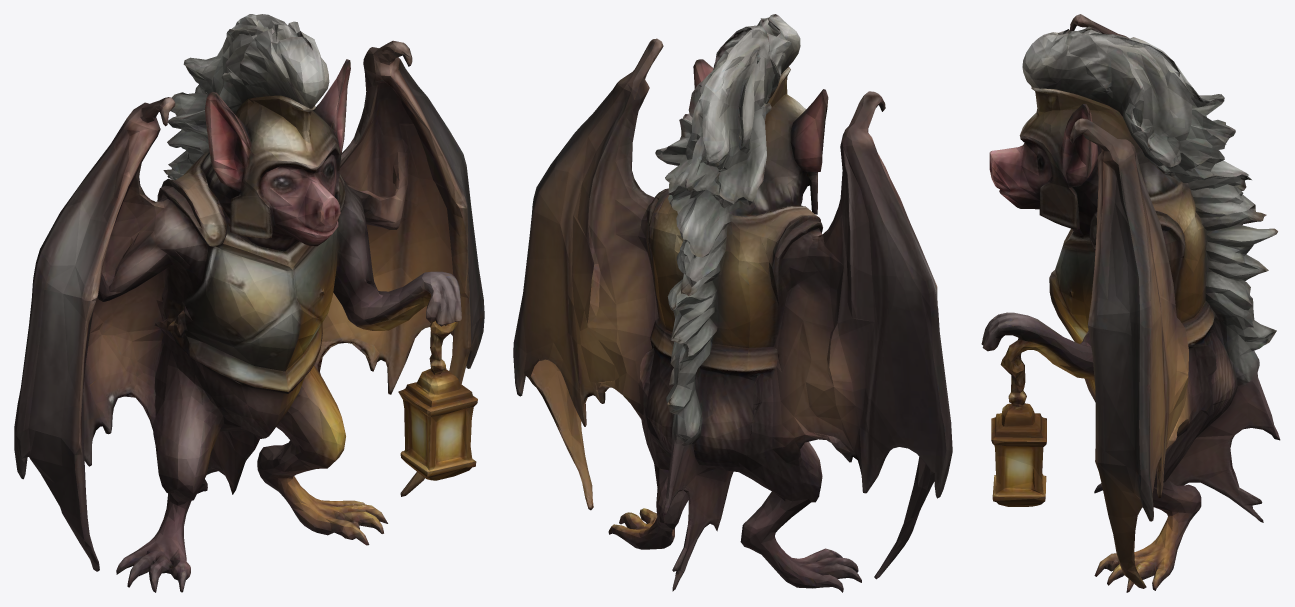
Rendered from lanternBatKnight.glb.
3 renders of one model, left to right at view 1: azimuth 30°, elevation 25°; view 2: azimuth 150°, elevation 25°; view 3: azimuth 270°, elevation 25°, orthographic. The views are drawn at different scales.
Visible parts, largest first — view 1: world; view 2: world; view 3: world.
Part boxes in pixels (x1,y1,x2,y2): world: (14,14,484,592); world: (513,14,952,592); world: (981,14,1280,592).
Size of the model in its own units: 0.8933 by 0.9966 by 0.5328.
1 material, 1 textured.
